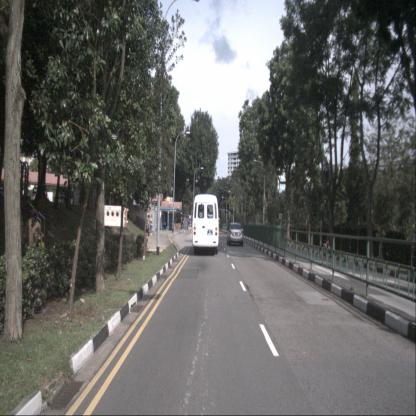human-pedestrian-adult: (22, 208, 44, 280), (146, 214, 150, 236), (282, 218, 286, 237), (150, 214, 153, 236), (276, 216, 279, 234), (280, 218, 283, 235), (241, 218, 244, 233), (237, 218, 240, 232), (163, 221, 166, 230), (182, 219, 184, 229), (176, 219, 178, 229), (178, 220, 180, 229)
vehicle-bicycle: (322, 237, 331, 258)
vehicle-car: (193, 194, 219, 254), (227, 223, 244, 247)
